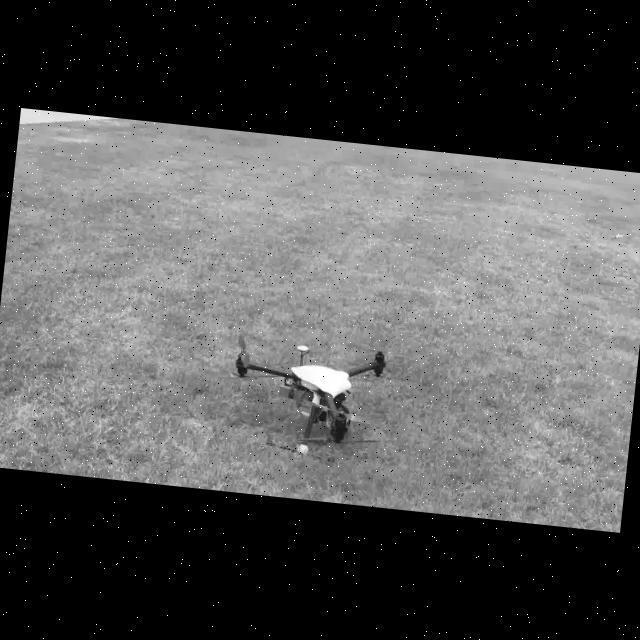Drons: (204, 309, 412, 480)
